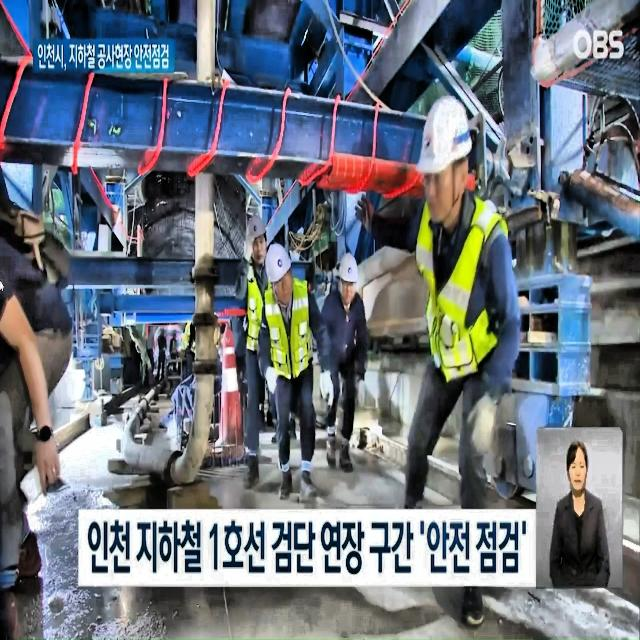safety_helmet: (415, 89, 474, 178), (265, 242, 294, 288), (338, 252, 361, 287), (245, 214, 270, 245)
safety_jacket: (414, 195, 504, 384), (263, 282, 310, 382), (244, 265, 267, 357)
